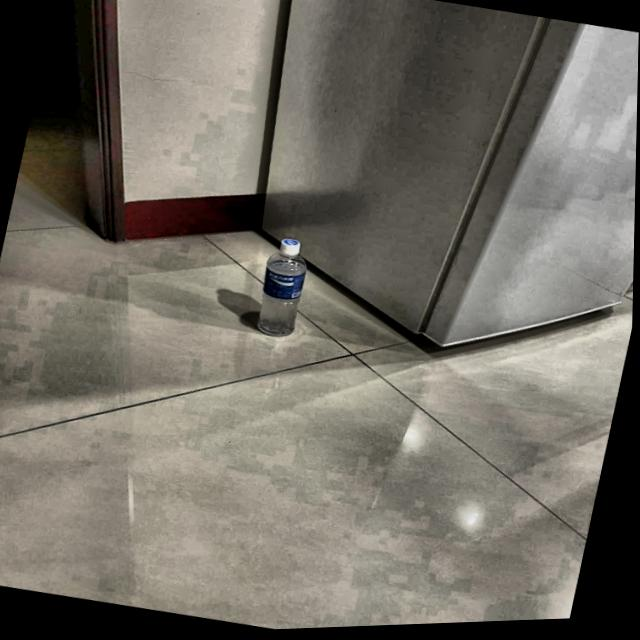Bottles: (202, 212, 366, 392)
